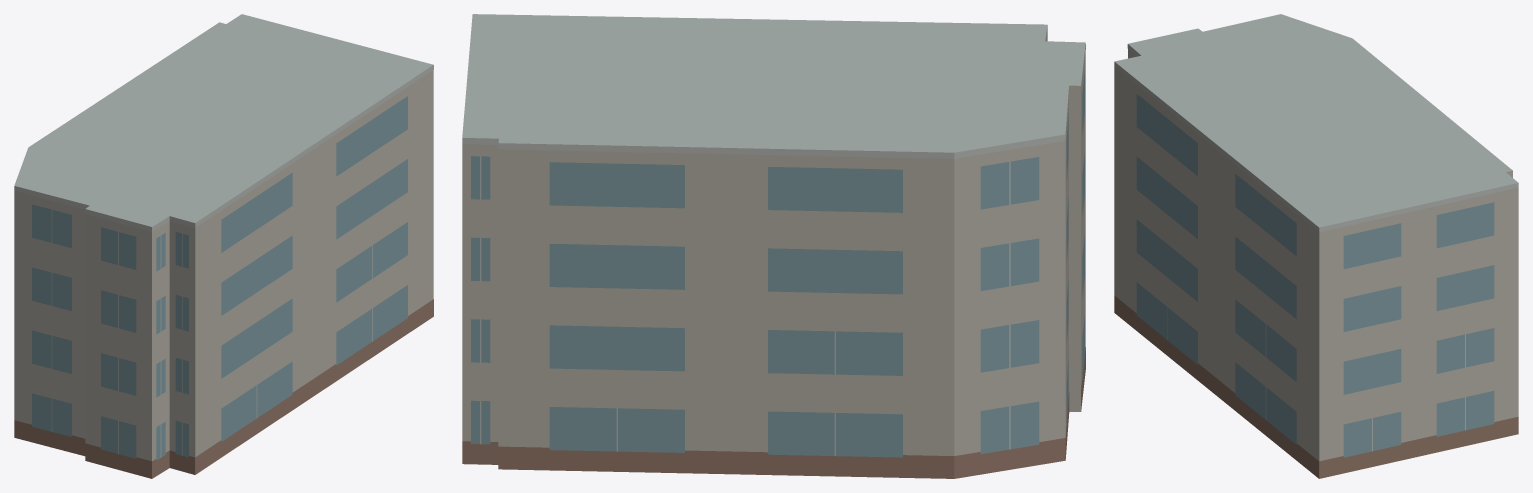
The model's file is survey-upis-33031827.glb.
3 renders of one model, left to right at view 1: azimuth 30°, elevation 25°; view 2: azimuth 150°, elevation 25°; view 3: azimuth 270°, elevation 25°, orthographic. The views are drawn at different scales.
Parts seen in each view (by area): view 1: survey-upis-33031827.tmp; view 2: survey-upis-33031827.tmp; view 3: survey-upis-33031827.tmp.
Boxes of the visible parts, bbox=[...] form: survey-upis-33031827.tmp: bbox=[14, 14, 433, 478]; survey-upis-33031827.tmp: bbox=[462, 14, 1085, 478]; survey-upis-33031827.tmp: bbox=[1114, 14, 1518, 478].
Bounding box in the file's own units: 23.16 × 12.7 × 18.53.
